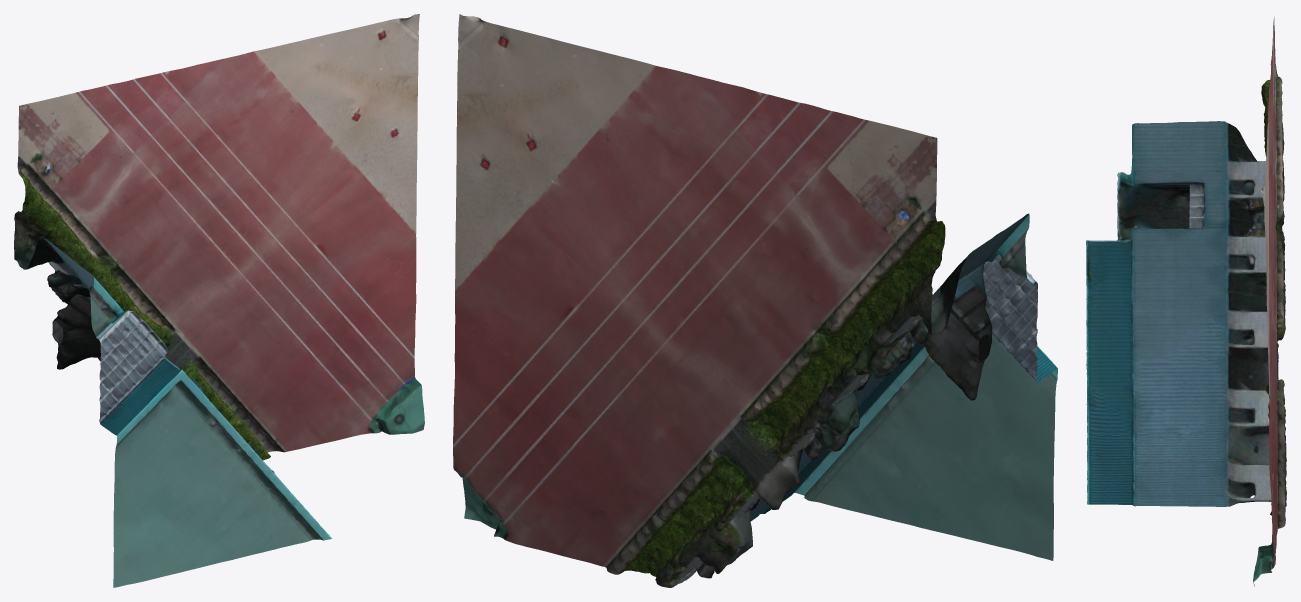
The model's file is Tile_+020_+008.fbx.
3 views of the same model, side by side, from view 1: azimuth 30°, elevation 25°; view 2: azimuth 150°, elevation 25°; view 3: azimuth 270°, elevation 25° (orthographic). The views are drawn at different scales.
Parts seen in each view (by area): view 1: DefaultName; view 2: DefaultName; view 3: DefaultName.
Boxes of the visible parts, <box> form: DefaultName: <box>14,14,424,587</box>; DefaultName: <box>453,14,1057,587</box>; DefaultName: <box>1086,17,1286,586</box>.
Bounding box in the file's own units: 22.54 × 22.54 × 10.48.
